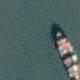ship: (50, 21, 80, 80)
